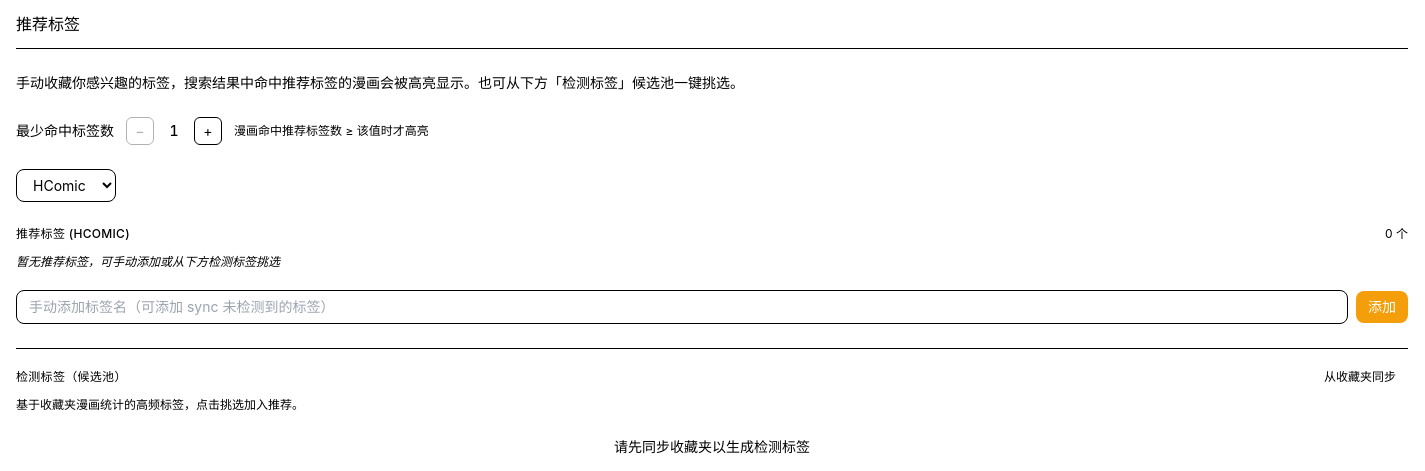
Test: FavouriteTagSettings - 推荐标签 / 检测标签双区 › 同步中根据 fetching 进度显示页码文案
This screenshot has width=1425, height=471.
Click the button "从收藏夹同步". click: (1360,377)
box: top-left (1312, 365), bottom-right (1408, 389)
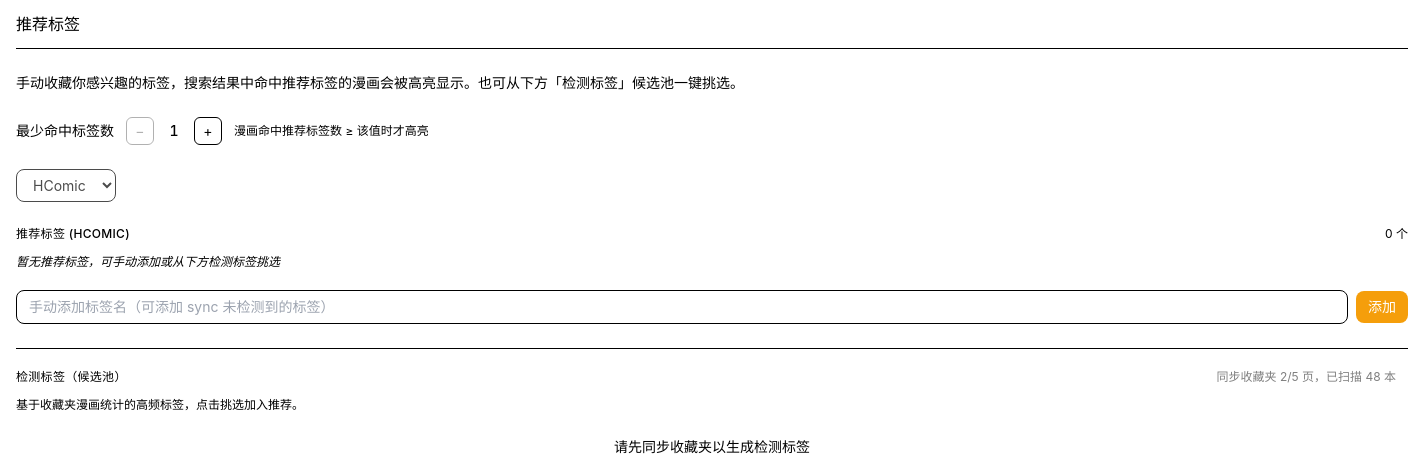
Check: the button "同步收藏夹 2/5 页，已扫描 48 本" is shown, box top-left (1204, 365), bottom-right (1408, 389)
